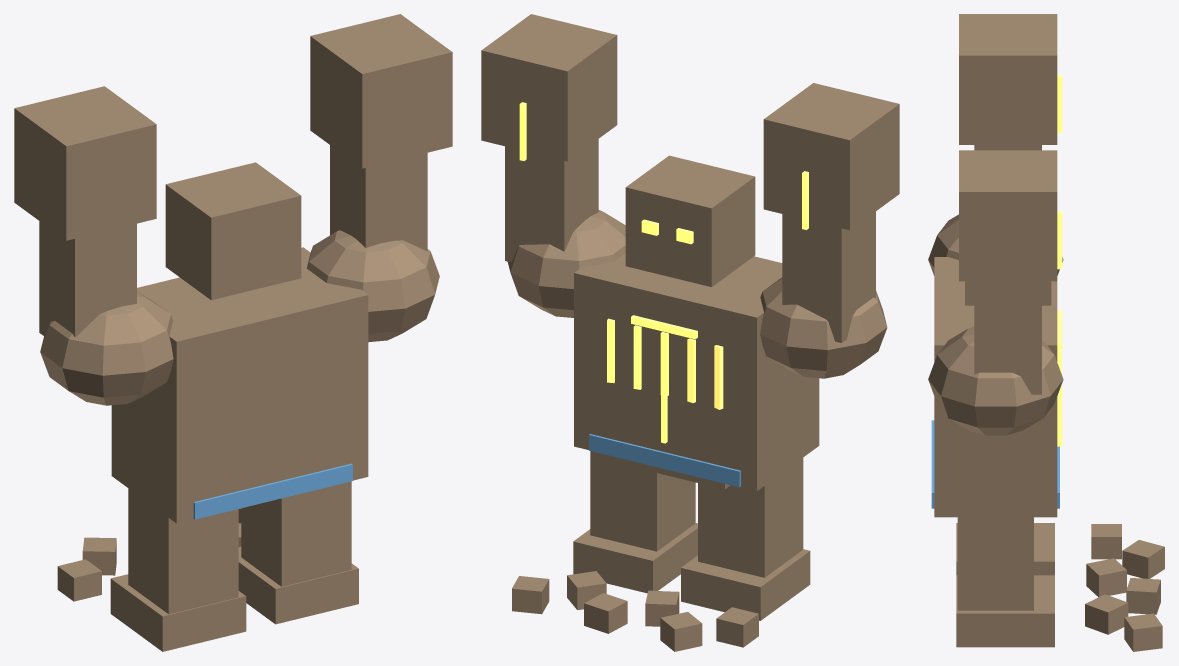
The model's file is golem.glb.
3 views of the same model, side by side, from view 1: azimuth 30°, elevation 25°; view 2: azimuth 150°, elevation 25°; view 3: azimuth 270°, elevation 25° (orthographic). The views are drawn at different scales.
Visible parts, largest first — view 1: golem; view 2: golem; view 3: golem.
Part boxes in pixels (x1,y1,x2,y2): golem: (14,14,452,651); golem: (481,14,899,651); golem: (928,14,1164,651).
Size of the model in its own units: 3.42 by 4.47 by 1.92.
